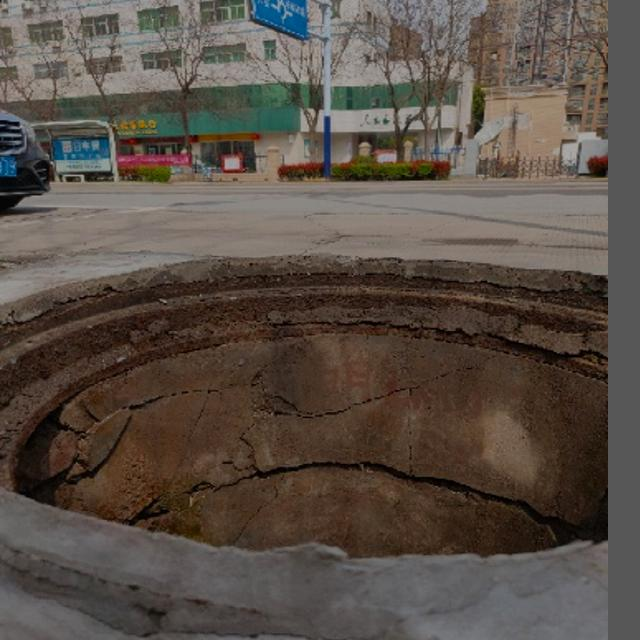lose: (1, 214, 604, 599)
